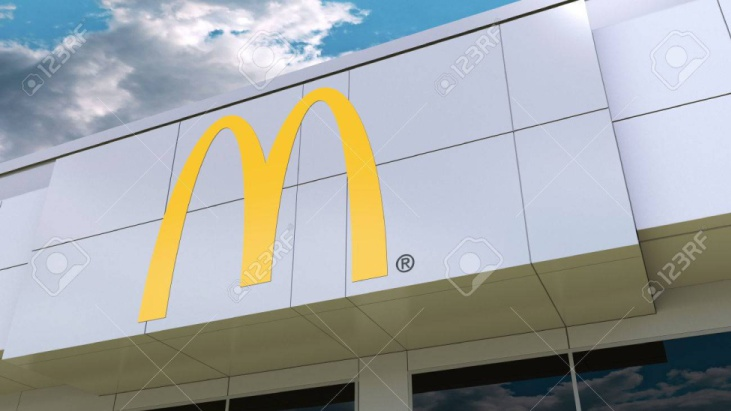mcdonalds: (137, 84, 396, 331)
